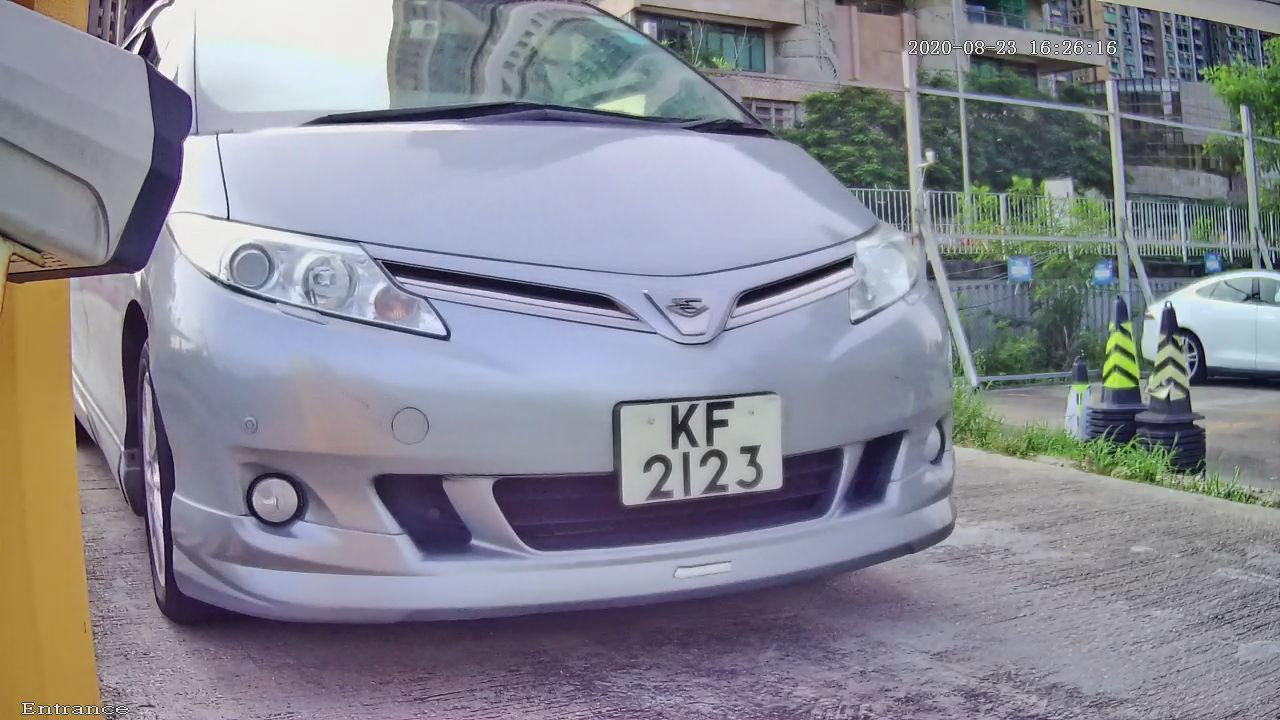Car: (69, 10, 1052, 663)
License Plate: (595, 377, 801, 518)
